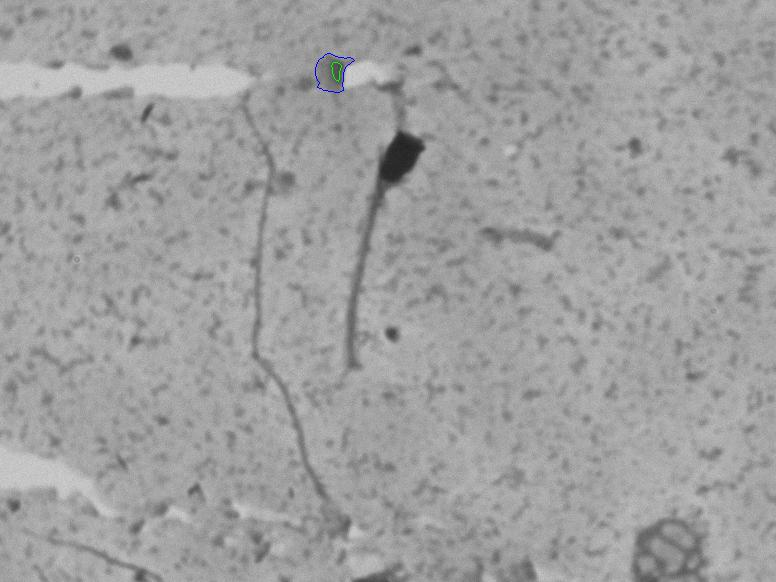Abnormal: (321, 107, 457, 381)
